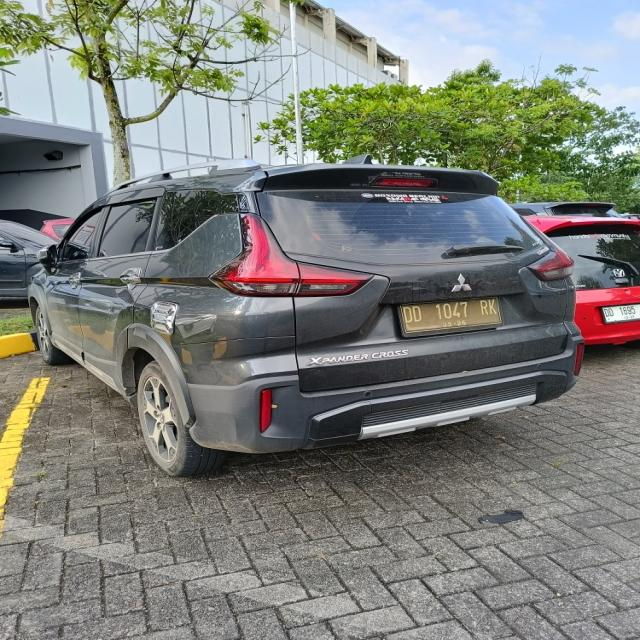plates: (395, 296, 516, 333)
